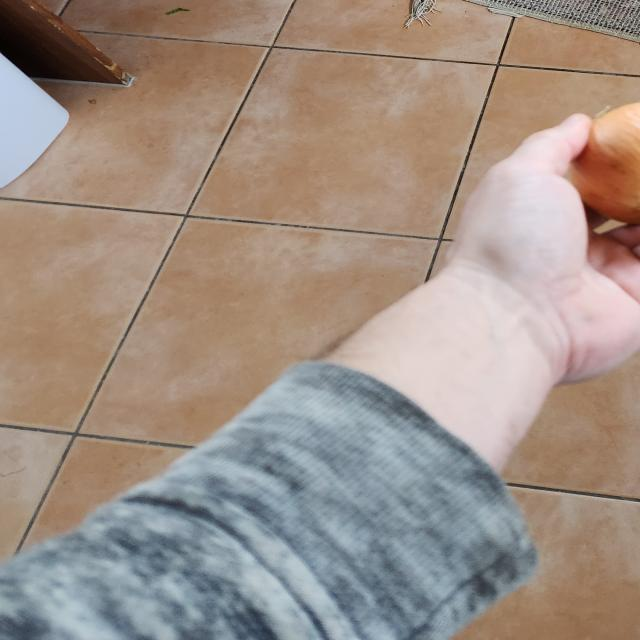brown onion: (571, 99, 640, 224)
